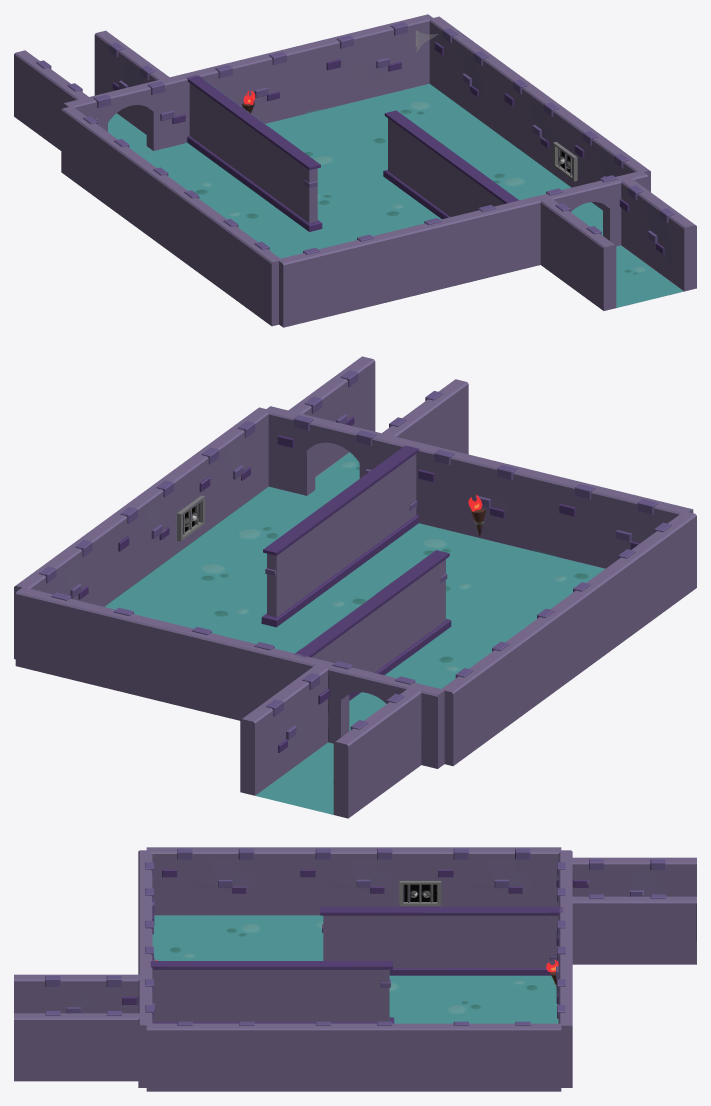
The model's file is RoomWallBake.glb.
The picture shows the model from 3 angles, top to bottom: view 1: azimuth 30°, elevation 25°; view 2: azimuth 150°, elevation 25°; view 3: azimuth 270°, elevation 25°; orthographic projection. The views are drawn at different scales.
Visible parts, largest first — view 1: Bake; view 2: Bake; view 3: Bake.
Part boxes in pixels (bbox=[...]): Bake: bbox=[14, 14, 696, 327]; Bake: bbox=[14, 356, 696, 818]; Bake: bbox=[14, 847, 696, 1091].
Size of the model in its own units: 31.21 by 5.1 by 49.43.
Materials: 4 (1 with a texture image).
